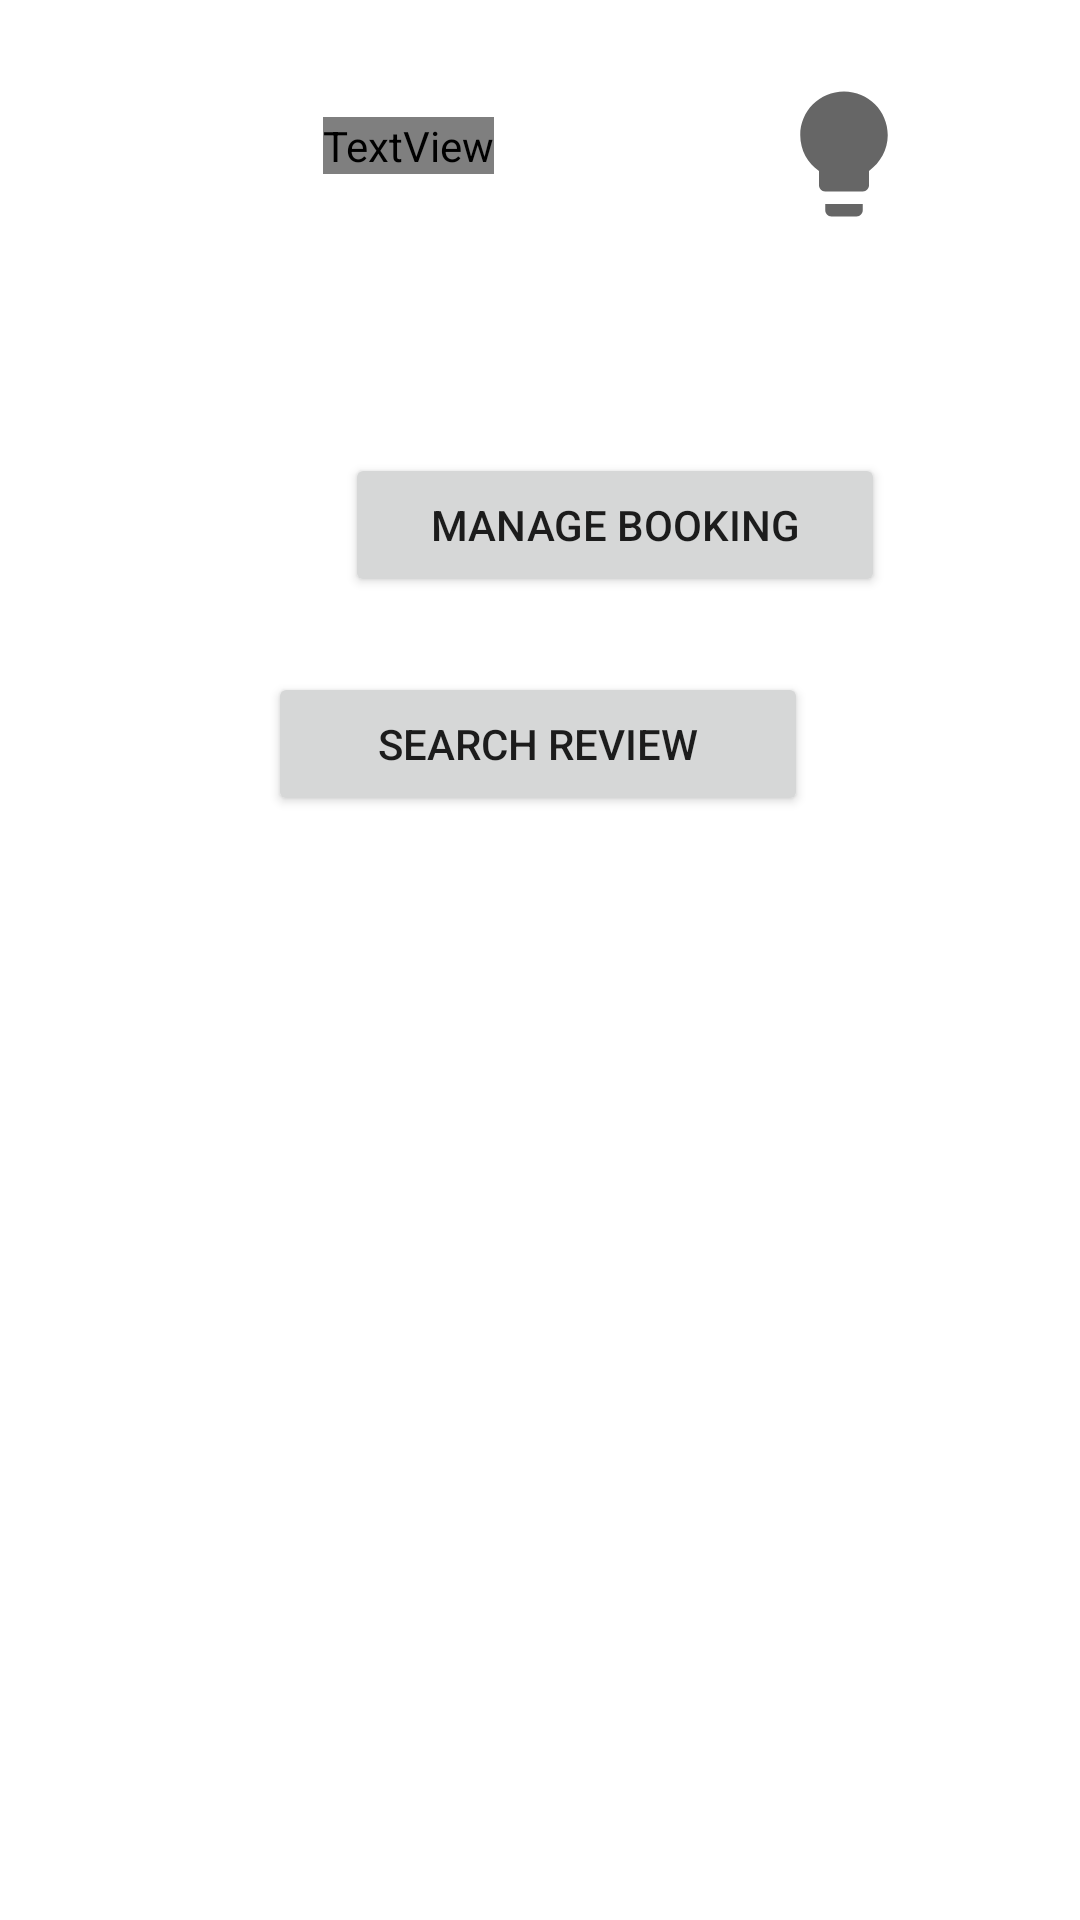

Named icons in this screenshot (1080*1920) and their centers, [x,y]:
lightbulb: [844,154]
